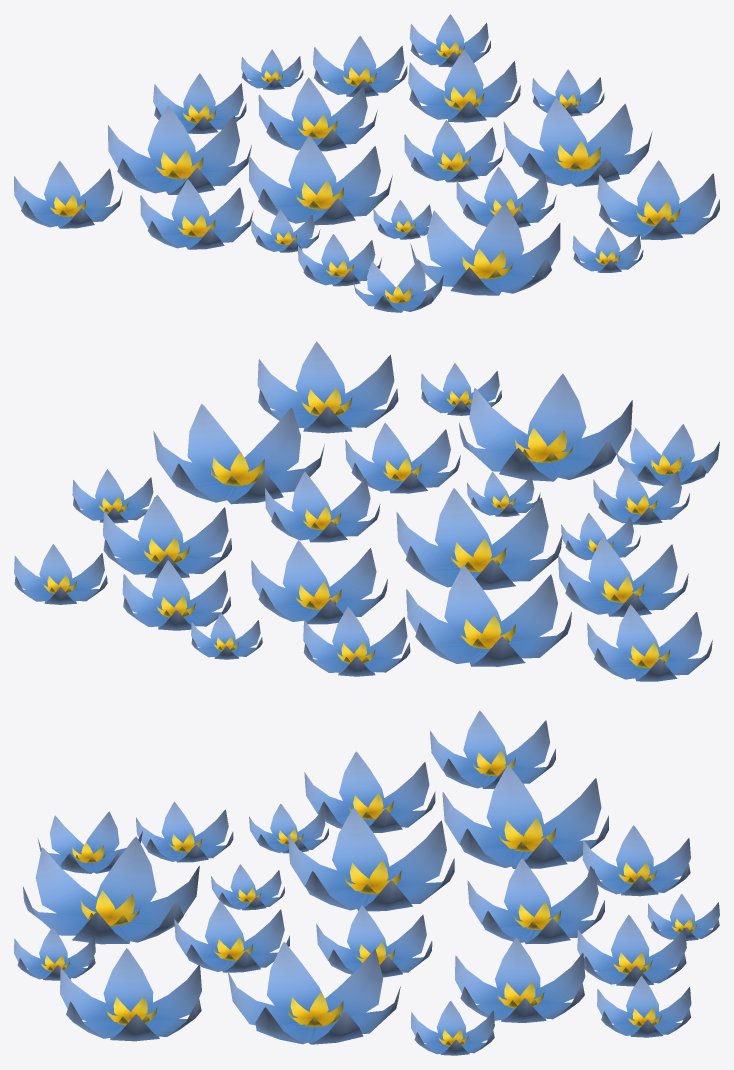
3 views of the same model, one above another, from view 1: azimuth 30°, elevation 25°; view 2: azimuth 150°, elevation 25°; view 3: azimuth 270°, elevation 25° (orthographic). The views are drawn at different scales.
Parts seen in each view (by area): view 1: Circle_019; view 2: Circle_019; view 3: Circle_019.
Boxes of the visible parts, x1,y1,x2,y2 form: Circle_019: (14,14,719,312); Circle_019: (14,341,719,681); Circle_019: (14,710,719,1055).
Bounding box in the file's own units: 196 × 13.5 × 182.
